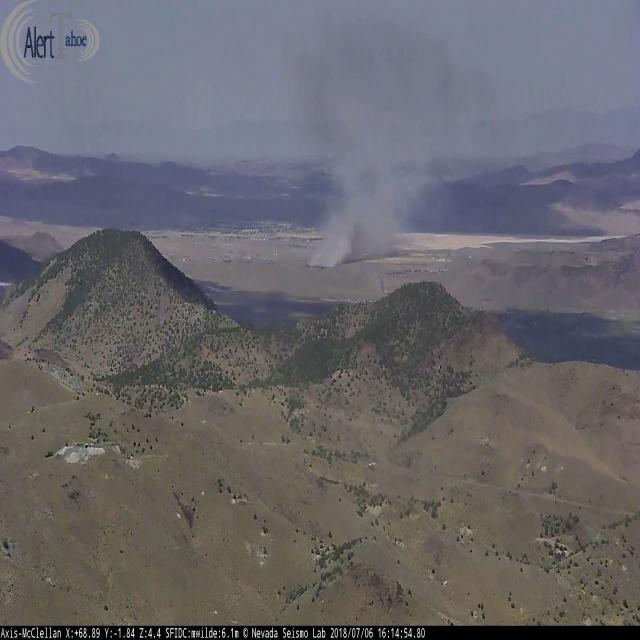smoke: (290, 17, 501, 266)
